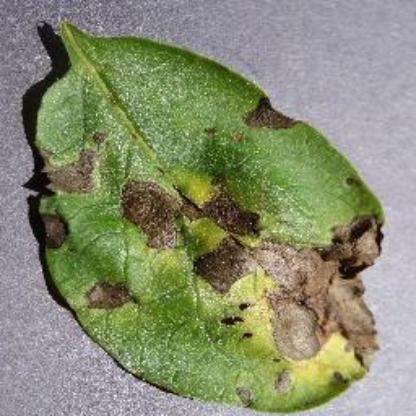Early-Blight: (27, 18, 395, 413)
